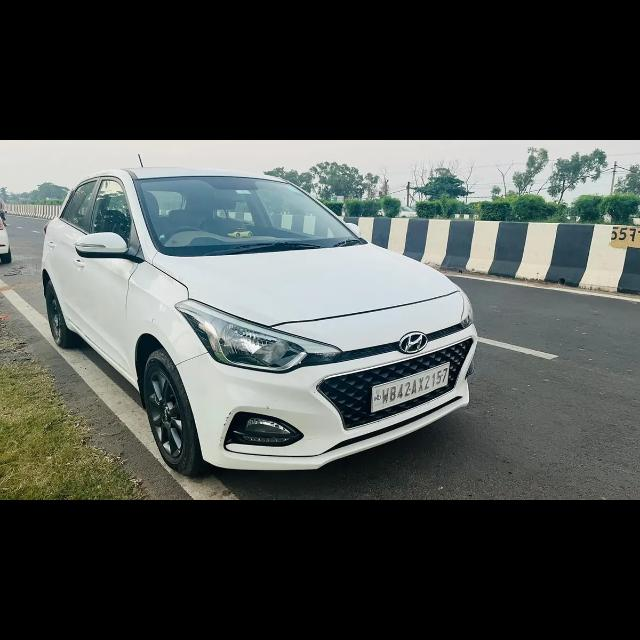vehicles: (44, 162, 478, 474), (0, 211, 12, 263)
